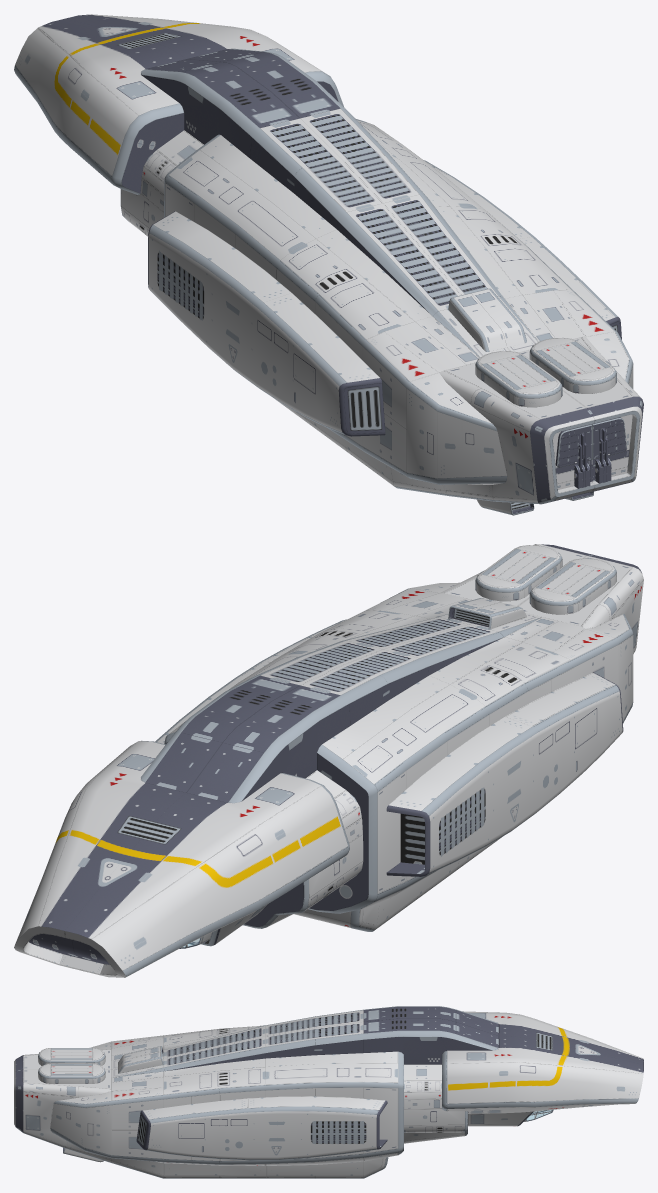
The model's file is Spaceship_Infinity_Body_1.FBX.
3 renders of one model, top to bottom at view 1: azimuth 30°, elevation 25°; view 2: azimuth 150°, elevation 25°; view 3: azimuth 270°, elevation 25°, orthographic. The views are drawn at different scales.
Parts seen in each view (by area): view 1: Spaceship_Infinity_Body_1, Door_Rear_01, Rear_Door_Lock; view 2: Spaceship_Infinity_Body_1; view 3: Spaceship_Infinity_Body_1.
Boxes of the visible parts, x1=… form: Spaceship_Infinity_Body_1: x1=14, y1=14, x2=643, y2=515; Door_Rear_01: x1=555, y1=417, x2=626, y2=471; Rear_Door_Lock: x1=574, y1=458, x2=611, y2=488; Spaceship_Infinity_Body_1: x1=14, y1=544, x2=643, y2=977; Spaceship_Infinity_Body_1: x1=14, y1=1006, x2=643, y2=1178.
Size of the model in its own units: 93.11 by 74.35 by 304.
Materials: 8 (7 with a texture image).
